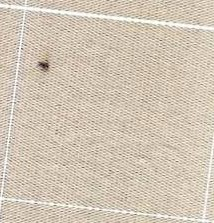stain: (34, 52, 53, 77)
